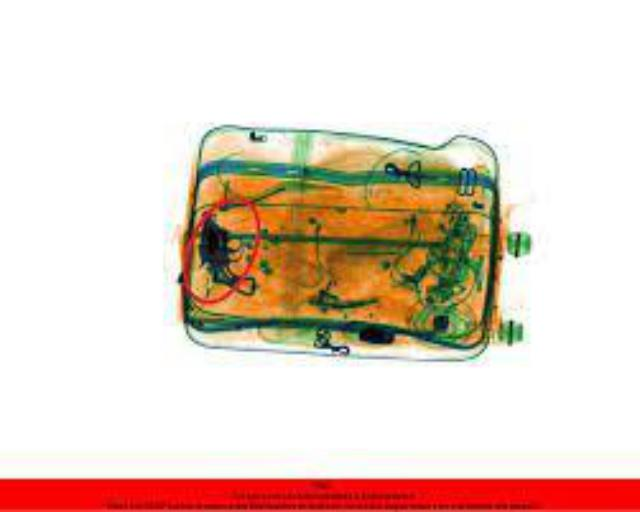Gun: (196, 206, 256, 290)
